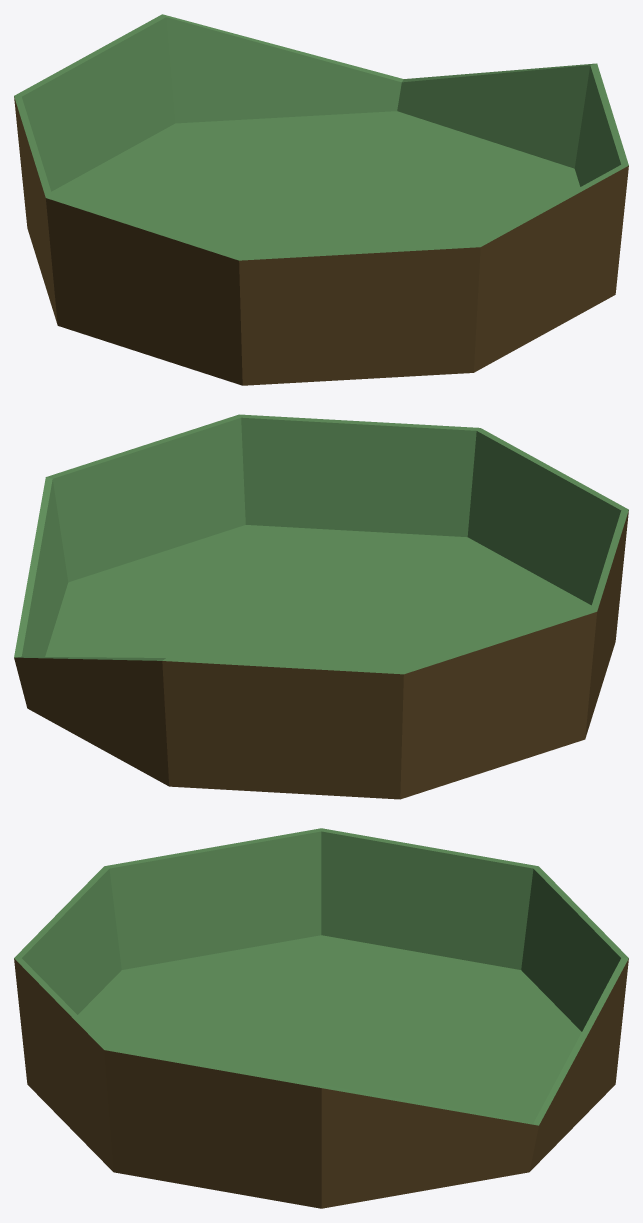
File: vitoria_regia1.fbx
The picture shows the model from 3 angles, top to bottom: view 1: azimuth 30°, elevation 25°; view 2: azimuth 150°, elevation 25°; view 3: azimuth 270°, elevation 25°; orthographic projection. The views are drawn at different scales.
Parts seen in each view (by area): view 1: vit1; view 2: vit1; view 3: vit1.
Boxes of the visible parts, <box> form: vit1: <box>14,14,628,385</box>; vit1: <box>14,414,628,799</box>; vit1: <box>14,828,628,1208</box>.
Size of the model in its own units: 2.29 by 0.5182 by 2.29.
